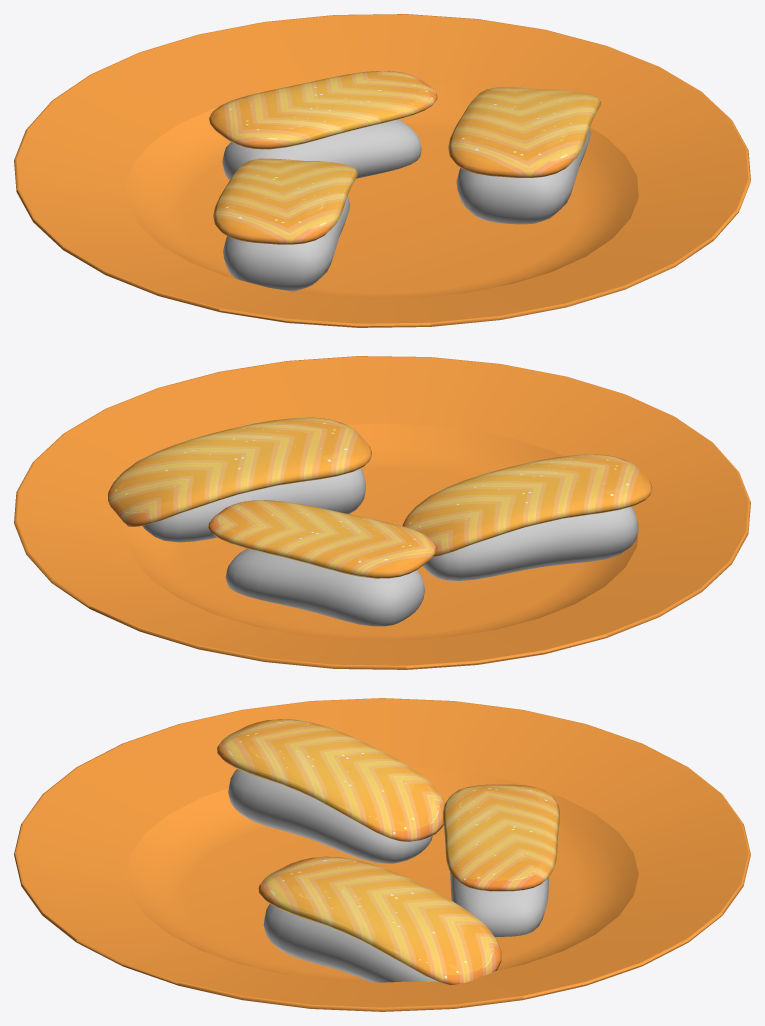
The model's file is NigiriTabak.fbx.
The picture shows the model from 3 angles, top to bottom: view 1: azimuth 30°, elevation 25°; view 2: azimuth 150°, elevation 25°; view 3: azimuth 270°, elevation 25°; orthographic projection.
Visible parts, largest first — view 1: somon_pirinc.005, somon_pirinc.008, somon_pirinc.010, somon_pirinc.006, somon_pirinc.009, somon_pirinc.011, somon_pirinc.007; view 2: somon_pirinc.005, somon_pirinc.010, somon_pirinc.006, somon_pirinc.008, somon_pirinc.009, somon_pirinc.007, somon_pirinc.011; view 3: somon_pirinc.005, somon_pirinc.010, somon_pirinc.006, somon_pirinc.008, somon_pirinc.007, somon_pirinc.011, somon_pirinc.009.
Part boxes in pixels (bbox=[...]): somon_pirinc.005: bbox=[14, 14, 750, 327]; somon_pirinc.008: bbox=[209, 71, 437, 149]; somon_pirinc.010: bbox=[448, 87, 601, 177]; somon_pirinc.006: bbox=[213, 158, 357, 244]; somon_pirinc.009: bbox=[222, 119, 421, 180]; somon_pirinc.011: bbox=[456, 129, 590, 224]; somon_pirinc.007: bbox=[223, 196, 350, 291]; somon_pirinc.005: bbox=[14, 356, 750, 669]; somon_pirinc.010: bbox=[108, 417, 371, 526]; somon_pirinc.006: bbox=[402, 454, 652, 556]; somon_pirinc.008: bbox=[208, 500, 436, 578]; somon_pirinc.009: bbox=[225, 548, 424, 626]; somon_pirinc.007: bbox=[423, 506, 638, 580]; somon_pirinc.011: bbox=[142, 468, 365, 542]; somon_pirinc.005: bbox=[14, 698, 750, 1011]; somon_pirinc.010: bbox=[258, 856, 501, 984]; somon_pirinc.006: bbox=[217, 719, 444, 841]; somon_pirinc.008: bbox=[442, 784, 559, 891]; somon_pirinc.007: bbox=[228, 769, 432, 863]; somon_pirinc.011: bbox=[263, 904, 436, 982]; somon_pirinc.009: bbox=[450, 871, 548, 936].
Size of the model in its own units: 46.09 by 6.38 by 46.09.
